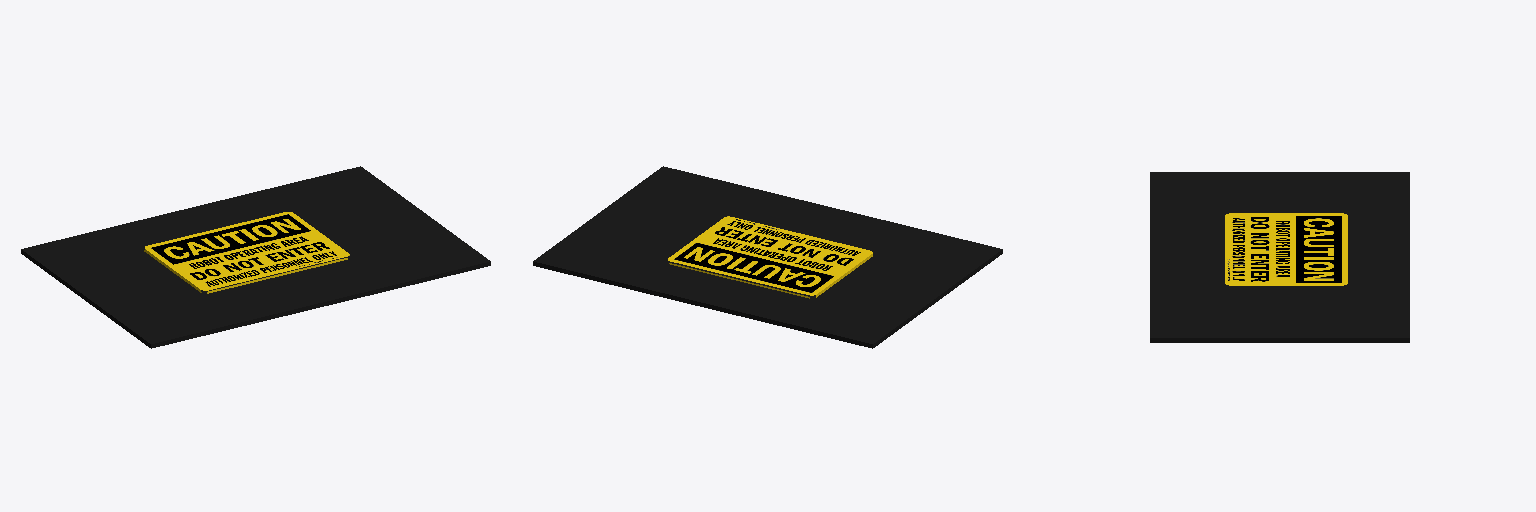
The picture shows the model from 3 angles: view 1: azimuth 30°, elevation 25°; view 2: azimuth 150°, elevation 25°; view 3: azimuth 270°, elevation 25°; orthographic projection.
Visible parts, largest first — view 1: door_Cube.002; view 2: door_Cube.002; view 3: door_Cube.002.
Boxes of the visible parts, x1,y1,x2,y2 form: door_Cube.002: [21, 166, 490, 348]; door_Cube.002: [533, 166, 1002, 348]; door_Cube.002: [1150, 172, 1409, 342].
Size of the model in its own units: 0.4 by 0.0084 by 0.265.
2 materials, 1 textured.